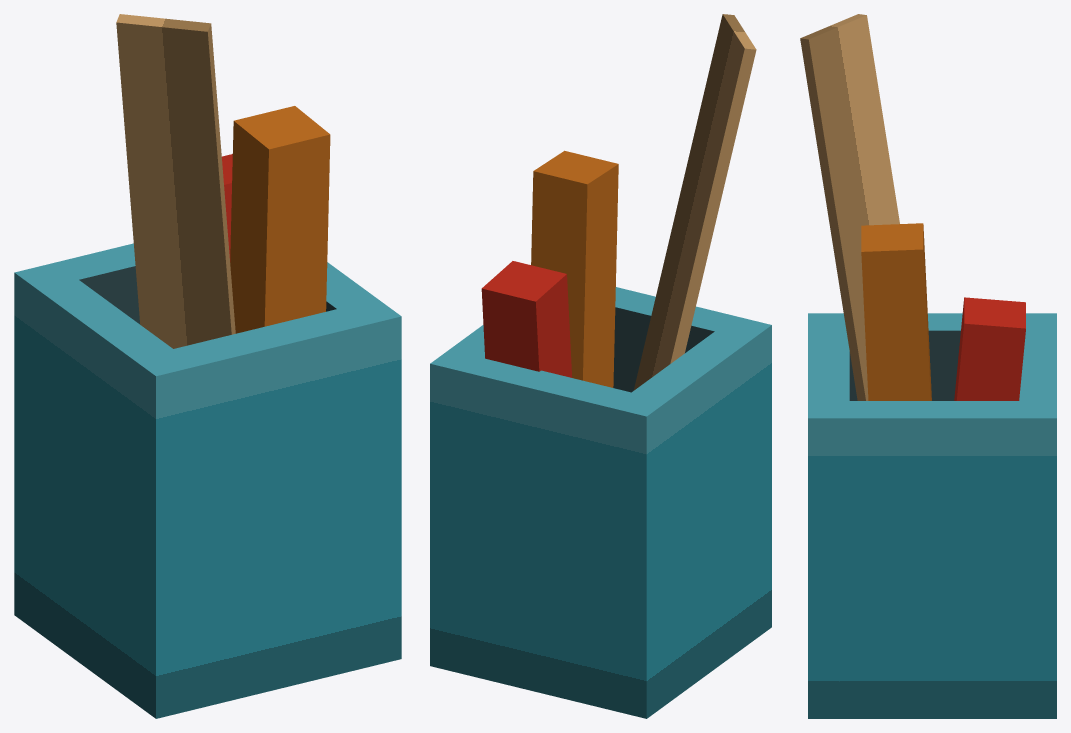
File: Organizier.fbx
3 renders of one model, left to right at view 1: azimuth 30°, elevation 25°; view 2: azimuth 150°, elevation 25°; view 3: azimuth 270°, elevation 25°, orthographic. The views are drawn at different scales.
Visible parts, largest first — view 1: mesh, cube_2, cube_1, cube; view 2: mesh, cube_2, cube_1, cube; view 3: mesh, cube_2, cube_1, cube.
Boxes of the visible parts, <box> form: mesh: <box>14,243,401,718</box>; cube_2: <box>116,14,235,348</box>; cube_1: <box>230,106,330,333</box>; cube: <box>222,154,232,261</box>; mesh: <box>430,287,771,718</box>; cube_2: <box>633,14,756,390</box>; cube_1: <box>531,150,618,387</box>; cube: <box>481,261,572,377</box>; mesh: <box>808,313,1056,718</box>; cube_2: <box>800,14,899,400</box>; cube_1: <box>861,223,931,400</box>; cube: <box>954,297,1025,400</box>.
Size of the model in its own units: 19.6 by 49.74 by 19.35.
1 material, 1 textured.
